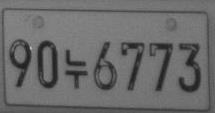0: (36, 39, 59, 89)
3: (177, 42, 202, 93)
6: (92, 40, 117, 90)
7: (148, 42, 174, 91), (120, 41, 145, 91)
9: (9, 38, 32, 88)
누: (64, 48, 88, 89)
